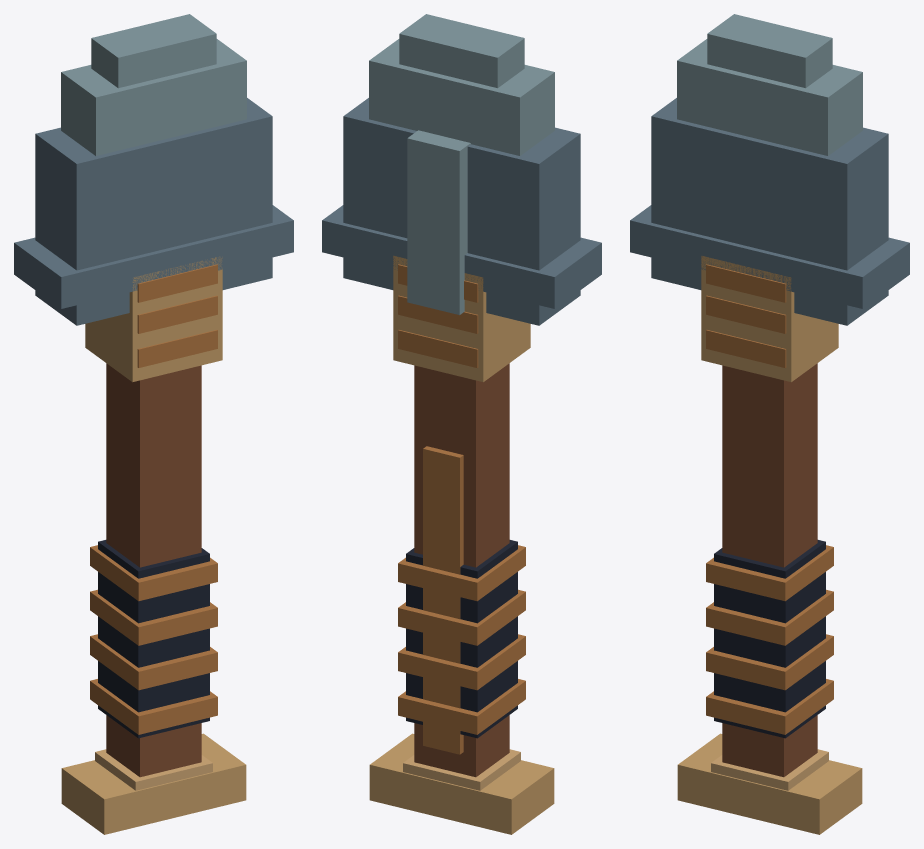
Rendered from stone_spade.glb.
3 views of the same model, side by side, from view 1: azimuth 30°, elevation 25°; view 2: azimuth 150°, elevation 25°; view 3: azimuth 330°, elevation 25° (orthographic).
Bounding box in the file's own units: 0.328 × 1.03 × 0.129.
1 material, 1 textured.
